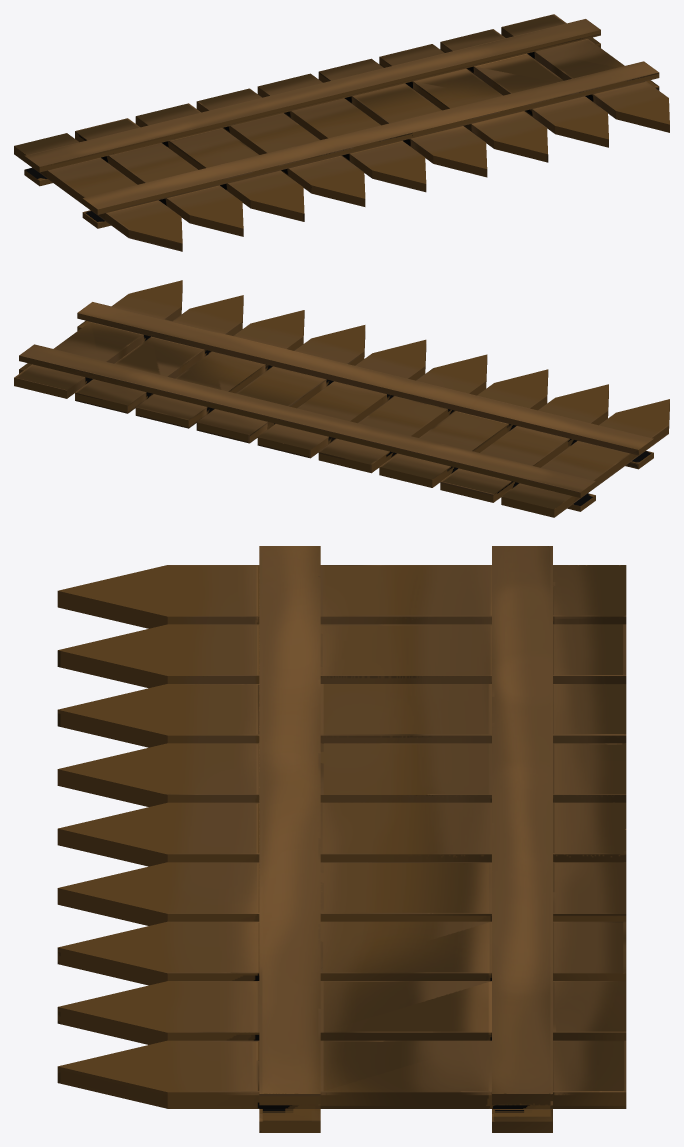
File: PłotDługi.fbx
3 views of the same model, one above another, from view 1: azimuth 30°, elevation 25°; view 2: azimuth 150°, elevation 25°; view 3: azimuth 270°, elevation 25° (orthographic). The views are drawn at different scales.
Parts seen in each view (by area): view 1: obj_0; view 2: obj_0; view 3: obj_0.
Boxes of the visible parts, box(x1,y1,x2,y2) form: obj_0: box(14, 14, 669, 251); obj_0: box(14, 280, 669, 517); obj_0: box(57, 546, 626, 1132).
Bounding box in the file's own units: 21200 × 700 × 9300.
